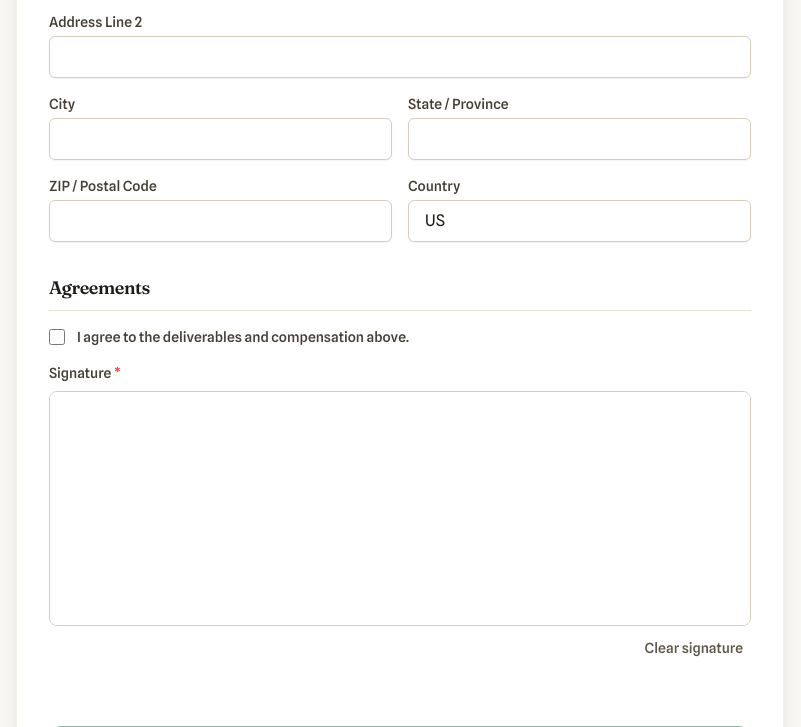
AcceptOffer signature pad › still draws when the browser refuses pointer capture
(page scrolled)
Click the checkbox labelled "I agree to the deliverables and compensation above." at (57, 337), box [49,329,65,345]
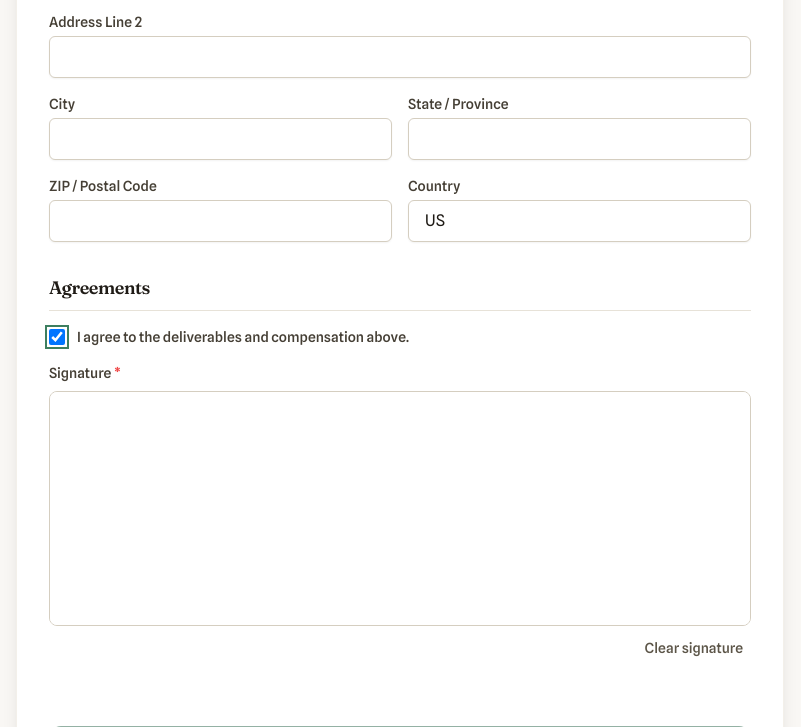
Press the mouse on the picture named "Signature pad" at (400, 509), box [50,392,750,625]
(page scrolled)
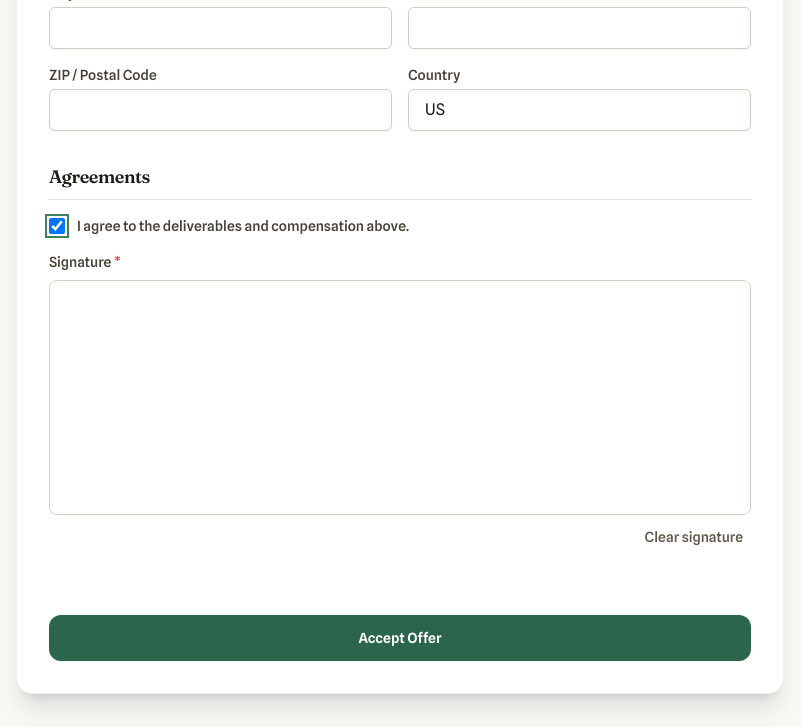
Check: the button "Accept Offer" is enabled, box [49,615,751,661]
